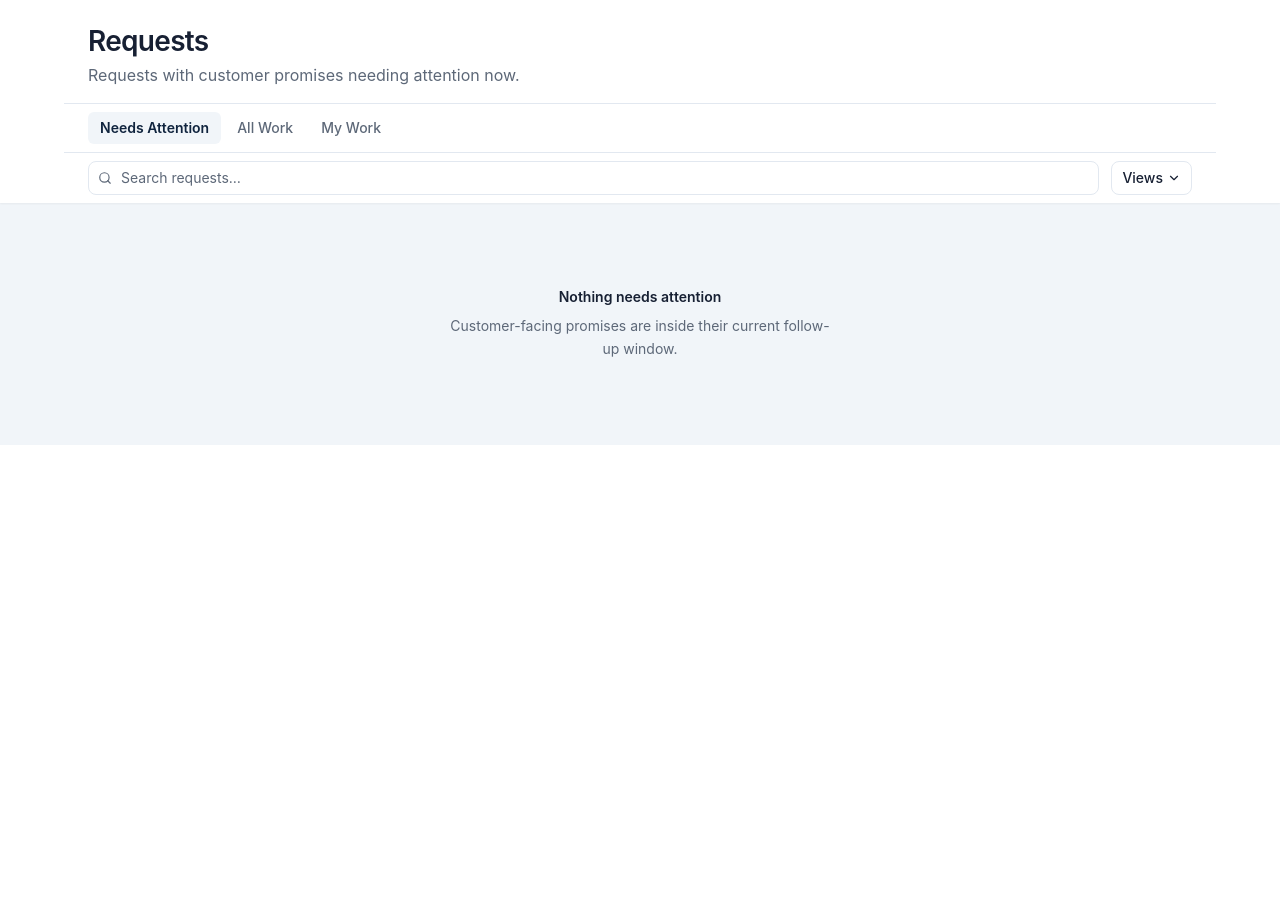
Scenario: Requests — no duplicate empty-state heading (session 3.5 follow-up) › Feedback Review: same no-duplication behavior for another operational queue
This screenshot has width=1280, height=900.
Expected: the tab "Needs Attention" is shown, [88,112,221,144]
What coordinates should you click on to do the following:
click the button "Views"
I would click on:
 (1152, 178)
Its box is [1111,161,1192,195].
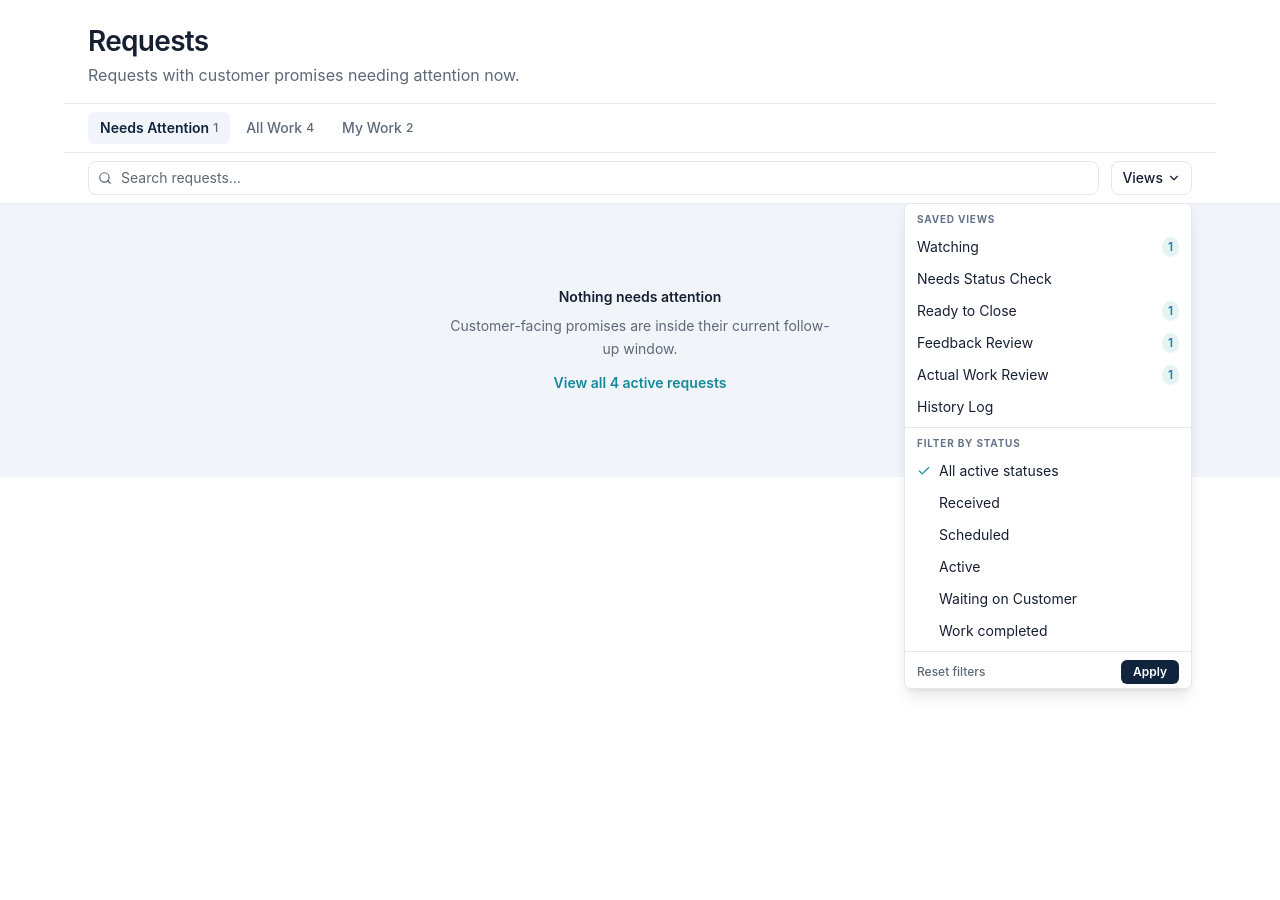
What coordinates should you click on to do the following:
click the button "Feedback Review 1"
I would click on:
 (975, 342)
Its box is [905,327,1191,359].
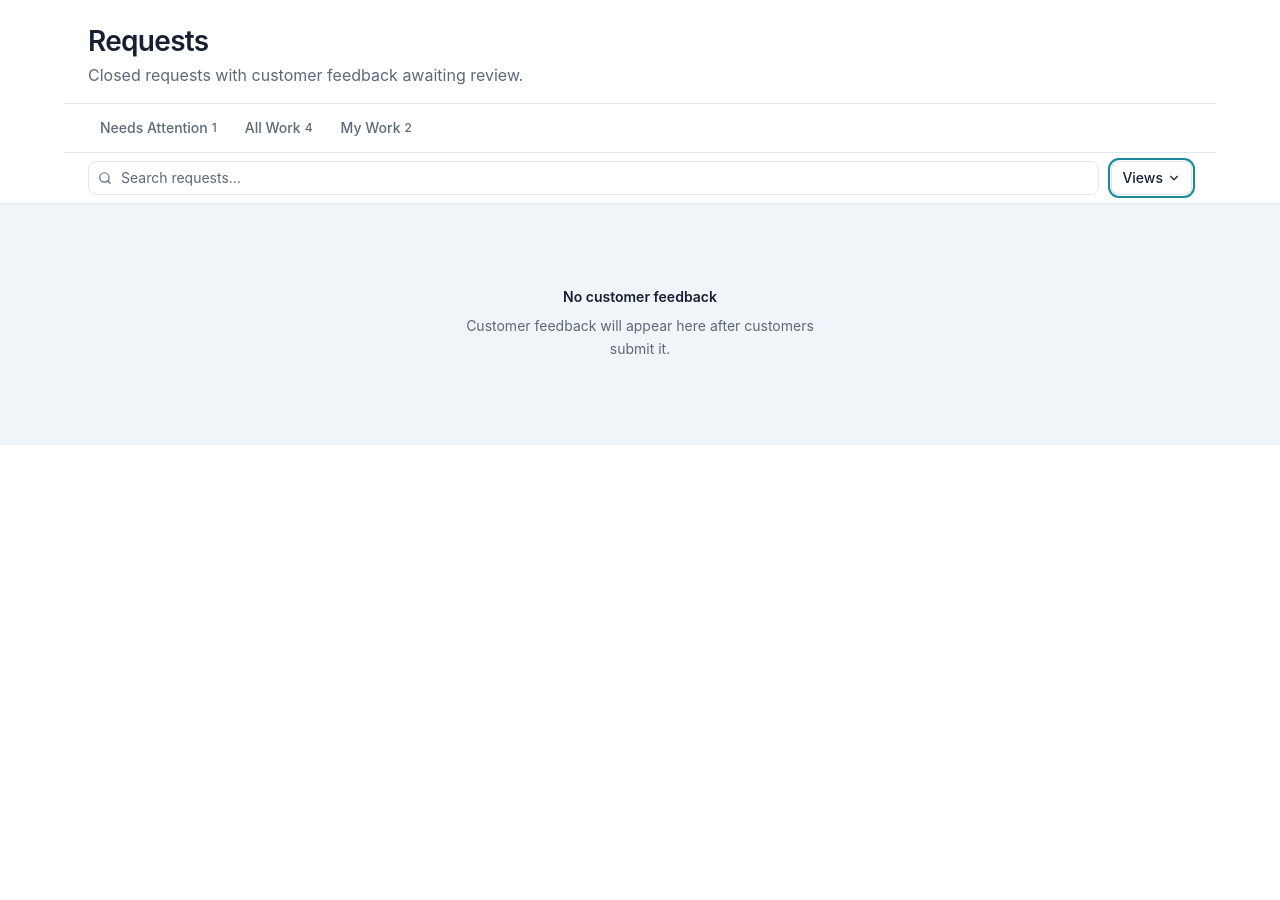
Result: the text "Closed requests with customer feedback awaiting review." is shown at [88,65,523,85]
